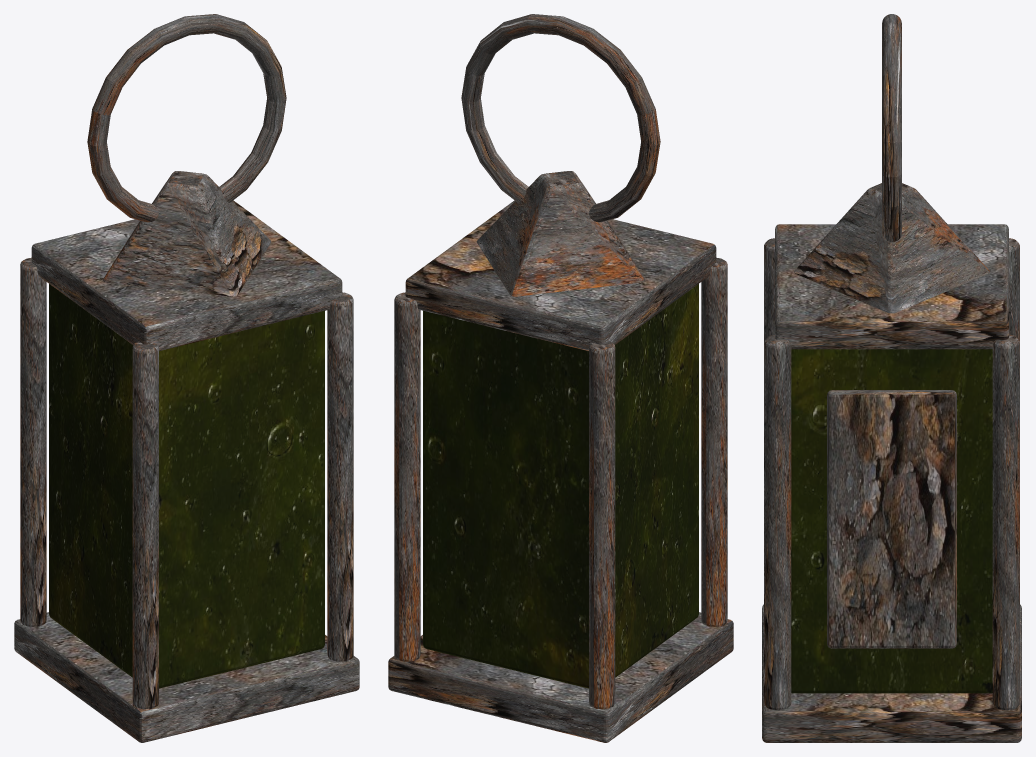
The model's file is lantern-v01.glb.
The picture shows the model from 3 angles, left to right: view 1: azimuth 30°, elevation 25°; view 2: azimuth 150°, elevation 25°; view 3: azimuth 270°, elevation 25°; orthographic projection.
Parts seen in each view (by area): view 1: lantern; view 2: lantern; view 3: lantern.
Part boxes in pixels (x1=…): lantern: x1=14, y1=14, x2=359, y2=742; lantern: x1=388, y1=14, x2=733, y2=742; lantern: x1=762, y1=14, x2=1021, y2=742.
Bounding box in the file's own units: 0.32 × 0.9047 × 0.32.
2 materials, 2 textured.
